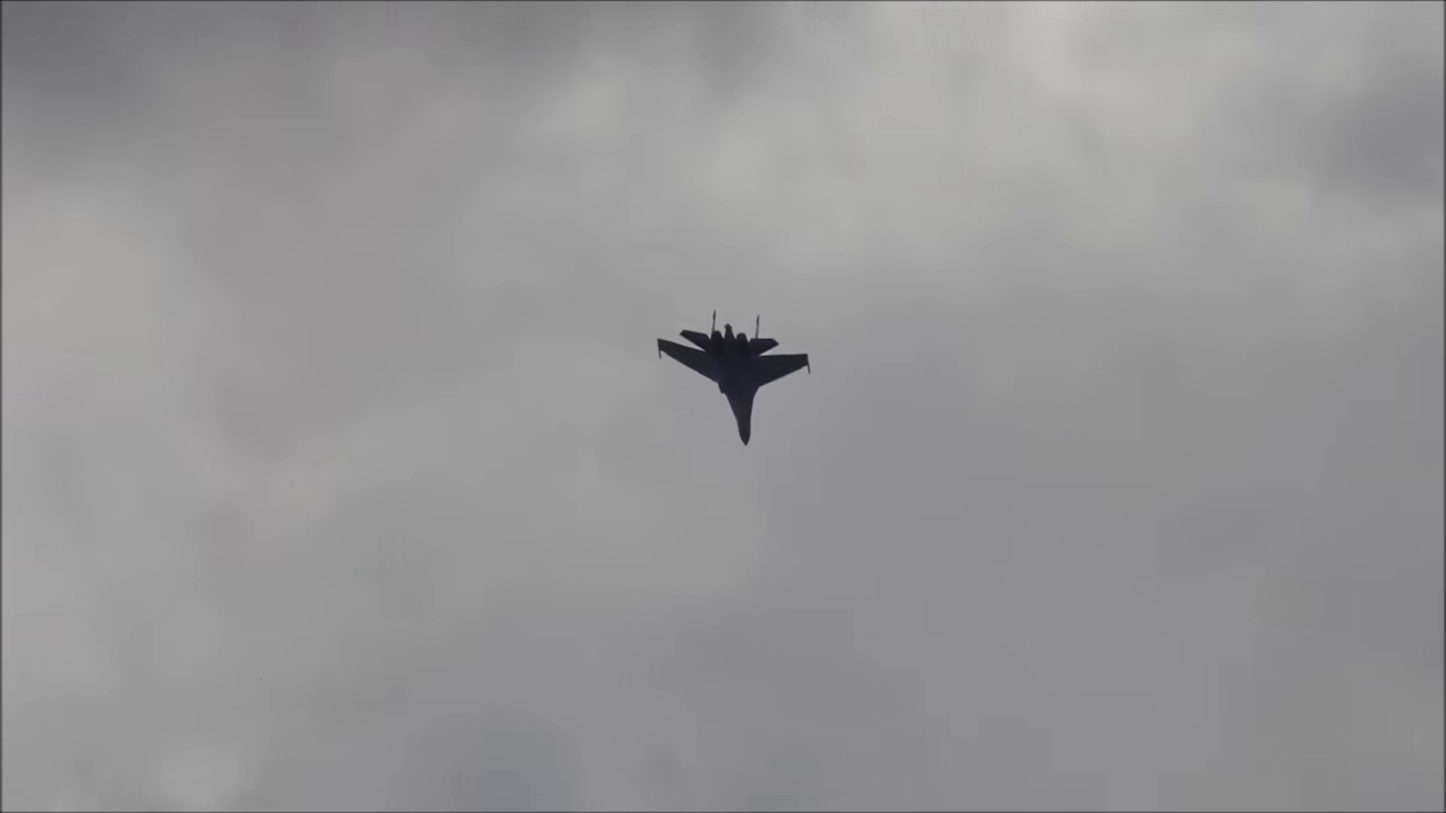Su35: (651, 302, 820, 453)
